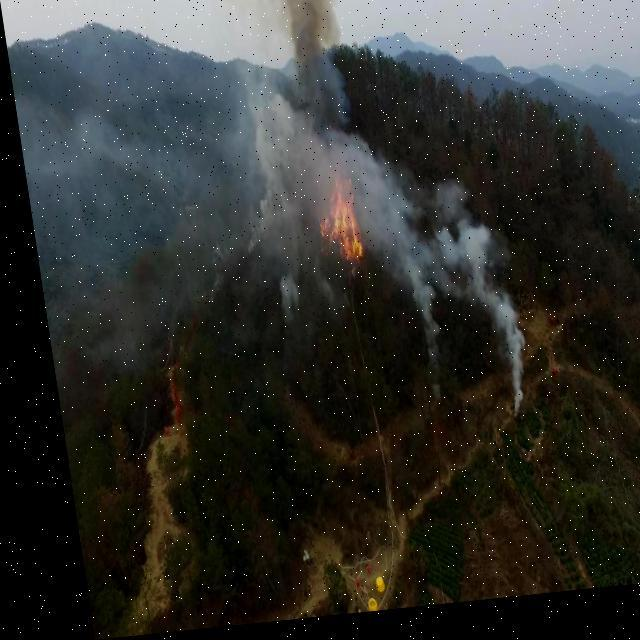Fire: (268, 139, 382, 295)
